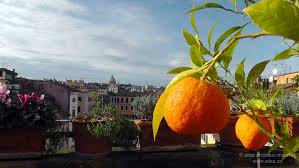orange: (159, 76, 231, 137), (233, 110, 275, 152)
